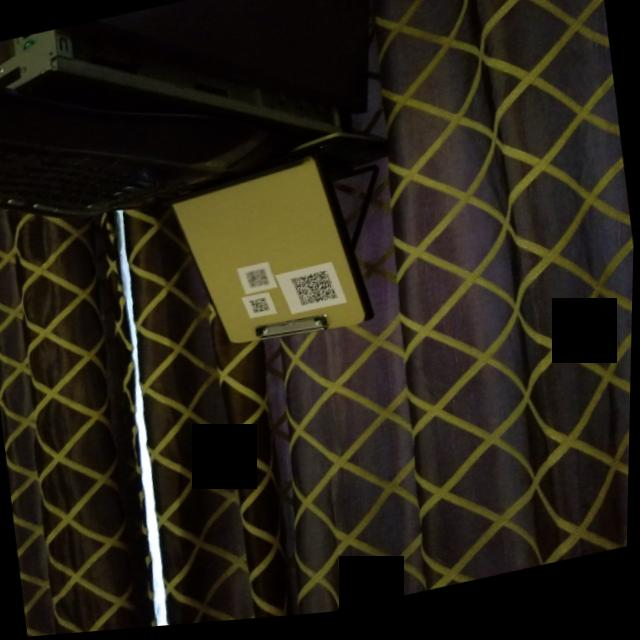QR_CODE: (285, 269, 350, 323), (235, 265, 277, 300), (241, 298, 276, 326)
